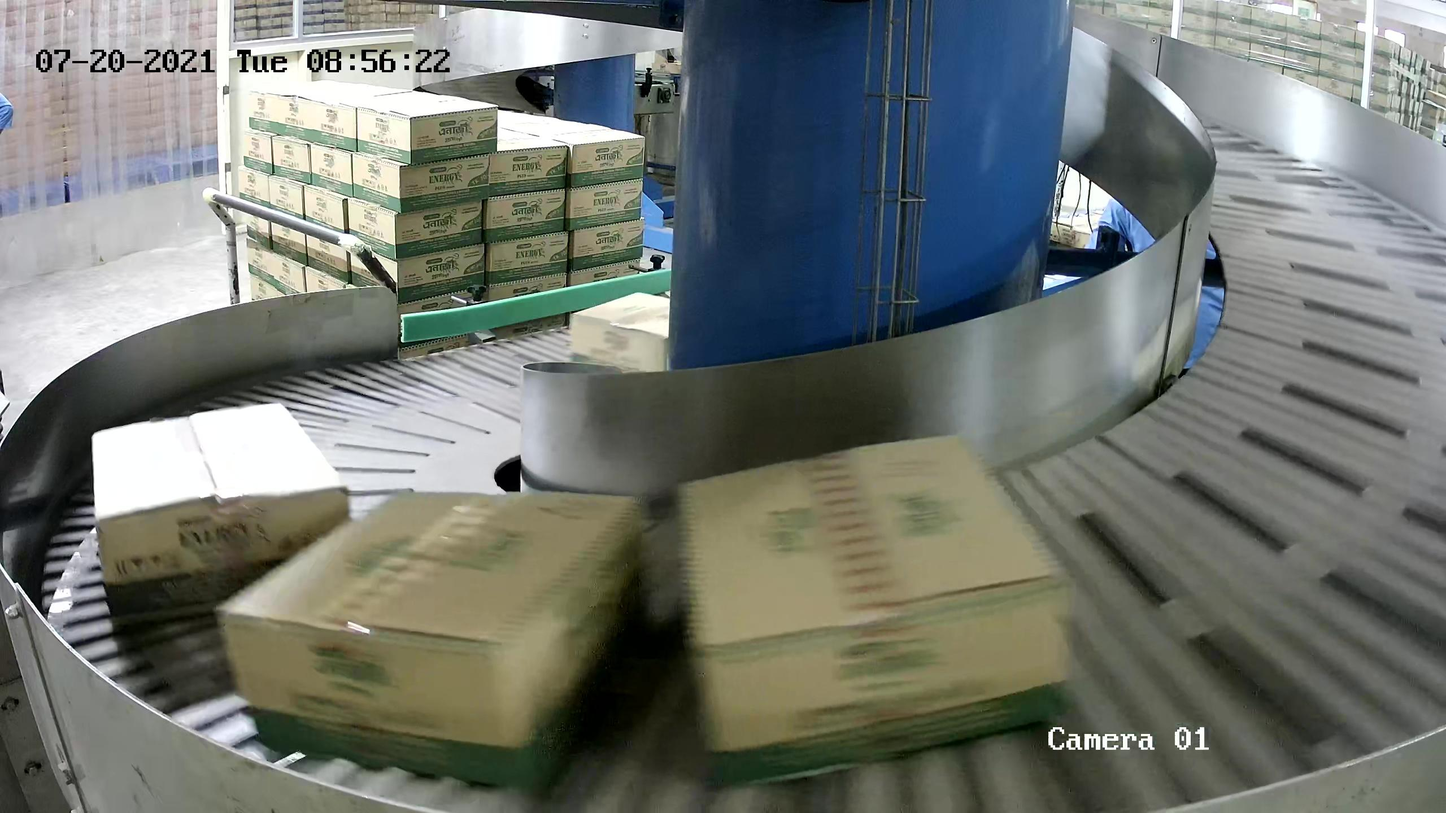Box: (674, 430, 1077, 789), (214, 486, 644, 788), (90, 401, 353, 628), (569, 291, 670, 372)
